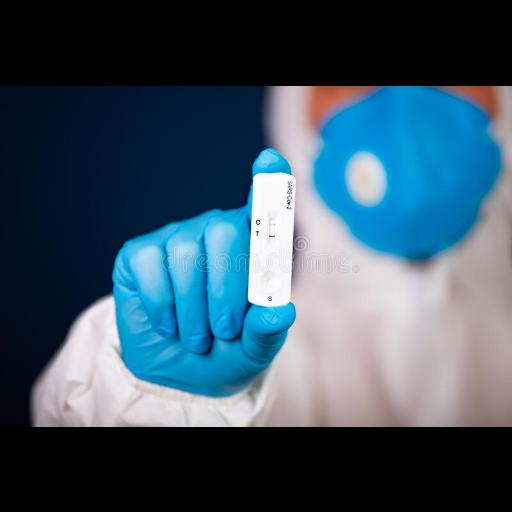Pos: (252, 172, 292, 302)
